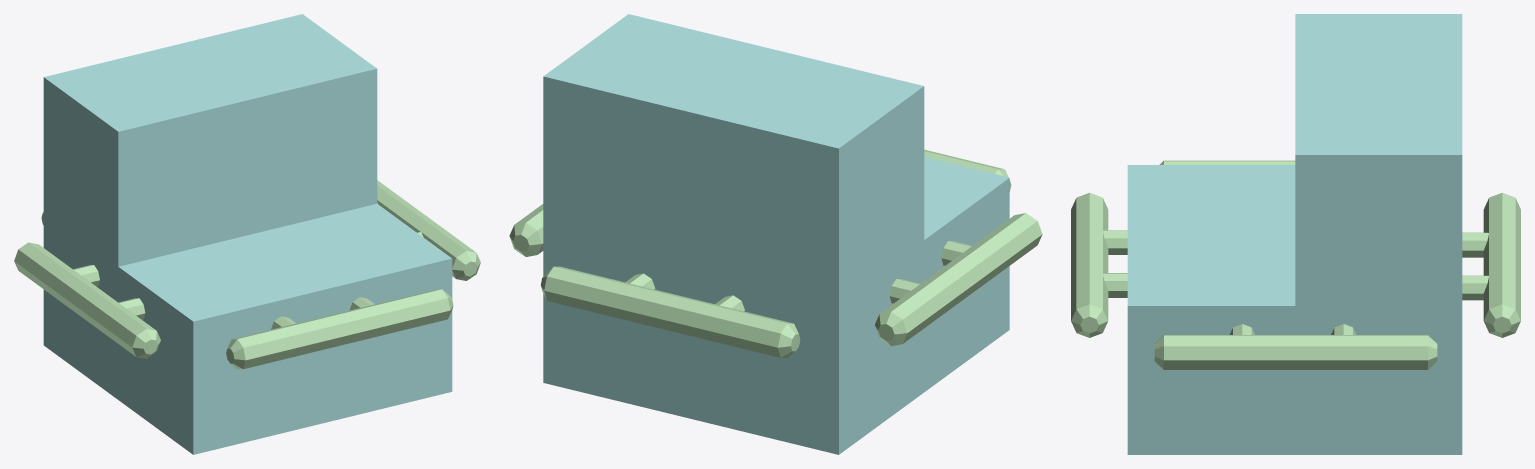
The model's file is Stairs_with_Handles.fbx.
3 views of the same model, side by side, from view 1: azimuth 30°, elevation 25°; view 2: azimuth 150°, elevation 25°; view 3: azimuth 270°, elevation 25° (orthographic). The views are drawn at different scales.
Visible parts, largest first — view 1: stairs_only, handle2; view 2: stairs_only, handle2; view 3: stairs_only, handle2.
Boxes of the visible parts, x1,y1,x2,y2 form: stairs_only: (43,14,452,454); handle2: (14,180,480,369); stairs_only: (543,14,1009,454); handle2: (509,149,1042,357); stairs_only: (1127,14,1462,454); handle2: (1071,160,1520,369).
Bounding box in the file's own units: 1.35 × 0.9906 × 1.35.
